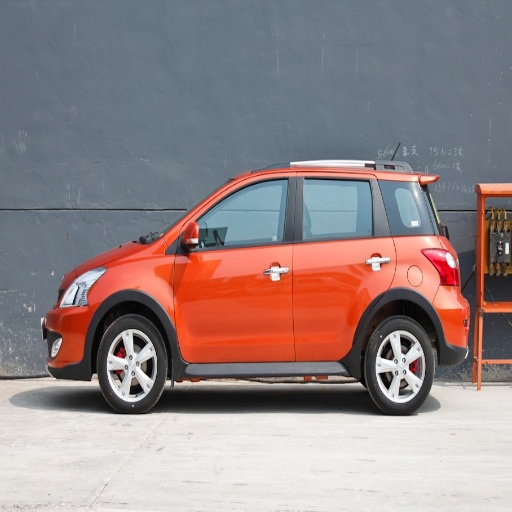back_bumper: (440, 300, 468, 357)
back_left_door: (295, 173, 394, 358)
front_left_door: (176, 174, 295, 360)
